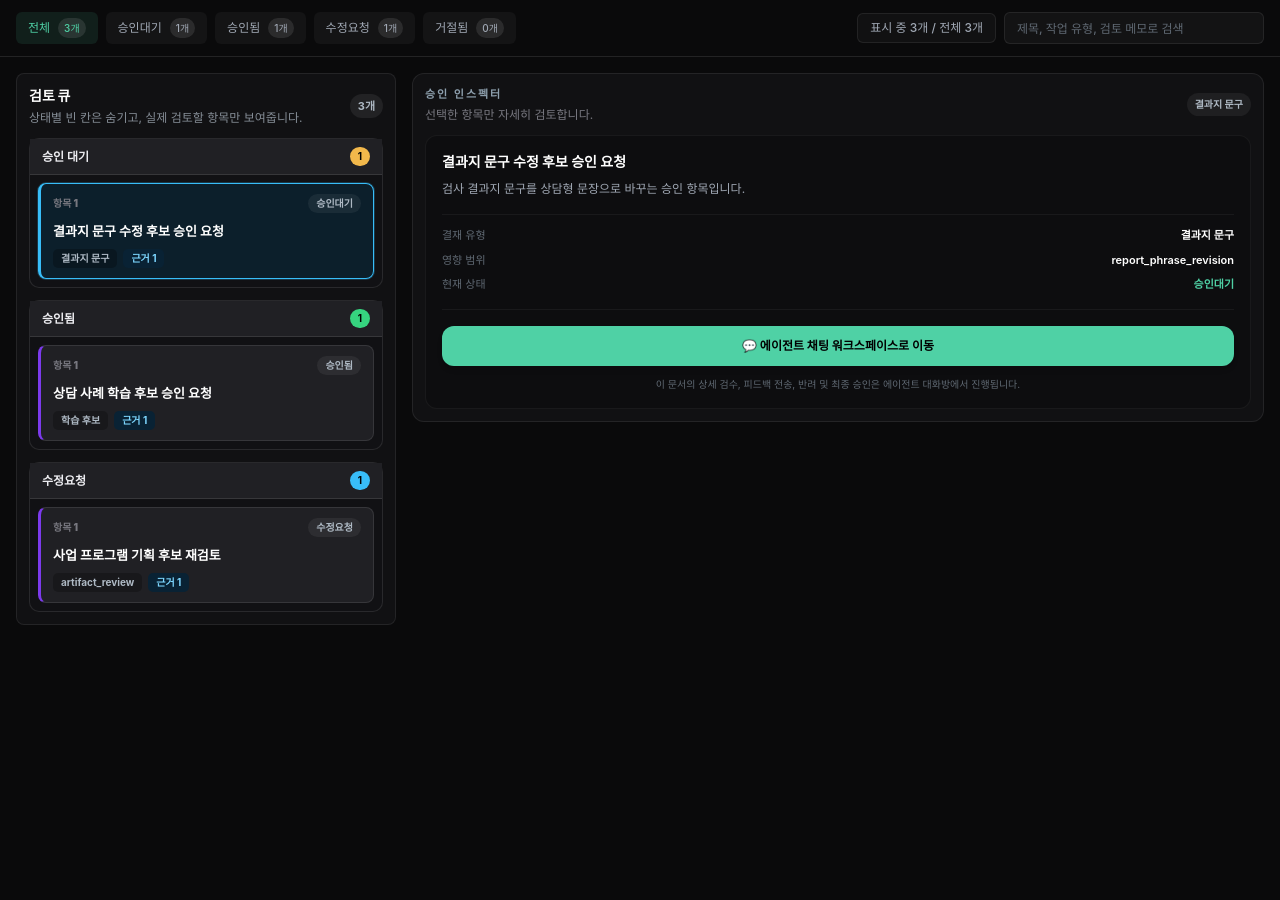
ApprovalInbox › filters approvals by status without losing total queue context
Click the button "수정요청 1개". click: (364, 28)
box: 314,12 -> 415,44
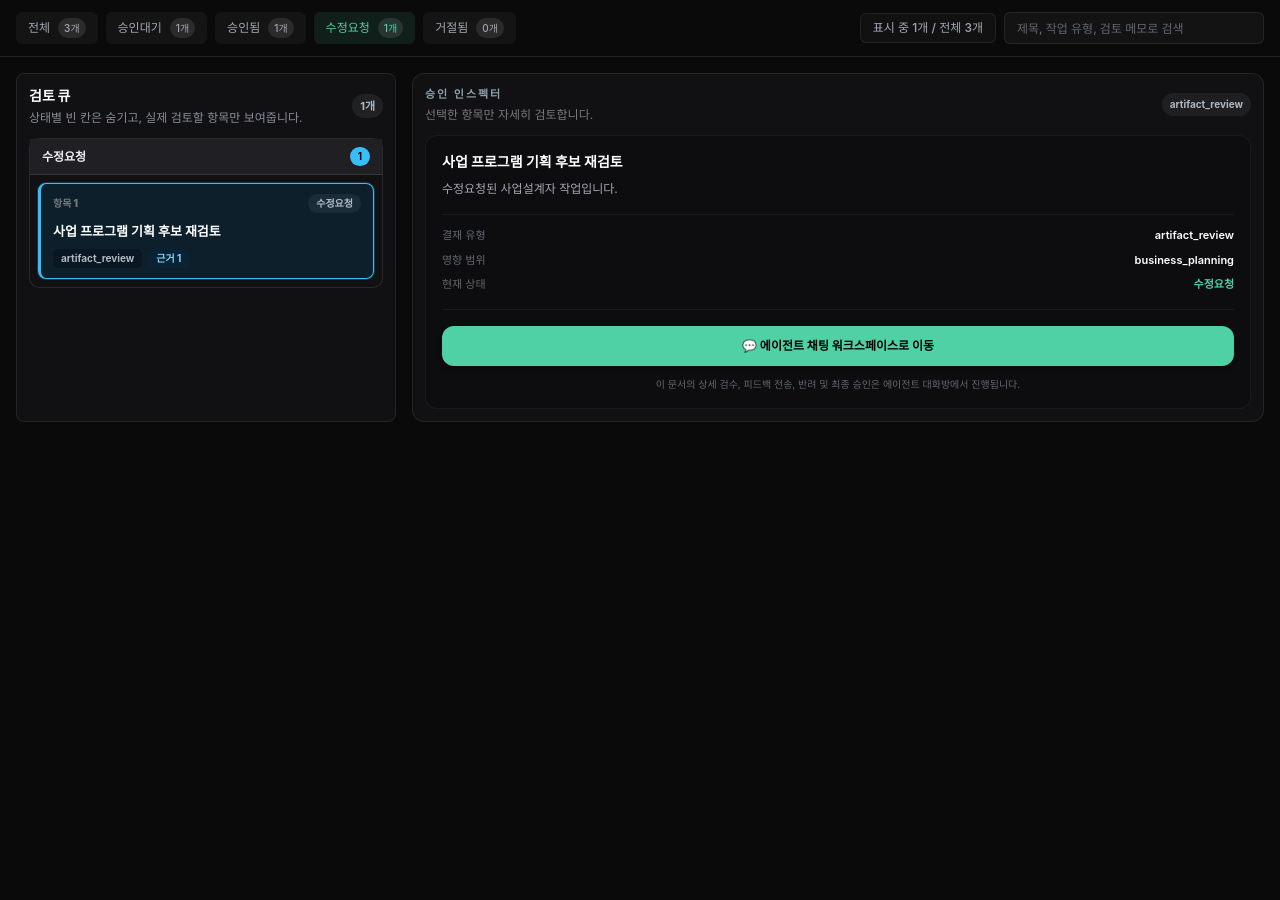
Now the button "결과지 문구 수정 후보 승인 요청" is gone
Now the button "상담 사례 학습 후보 승인 요청" is gone
Now the button "표시 중 1개 / 전체 3개" is shown, box 860,13 -> 996,43
